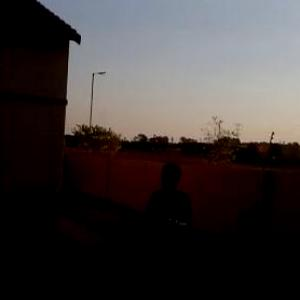follow: (138, 157, 193, 299)
